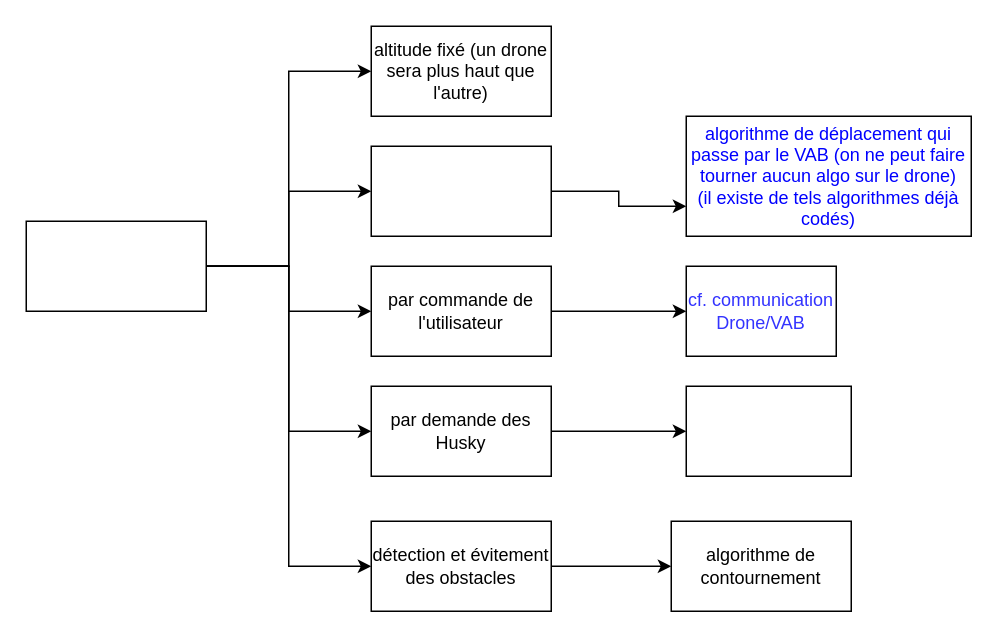
Image size: 998x638. Some labels were removed from this diagram. The shapes that lost their labels are listed below. From the top down, each one's box as (x1, y1, x2, y2) in pixels, then its label:
(370, 145, 551, 236): par défaut ; stratégie pour couvrir toute la zone
(25, 220, 206, 311): F103: Se déplacer
(685, 385, 851, 476): cf communication Husky/drones
